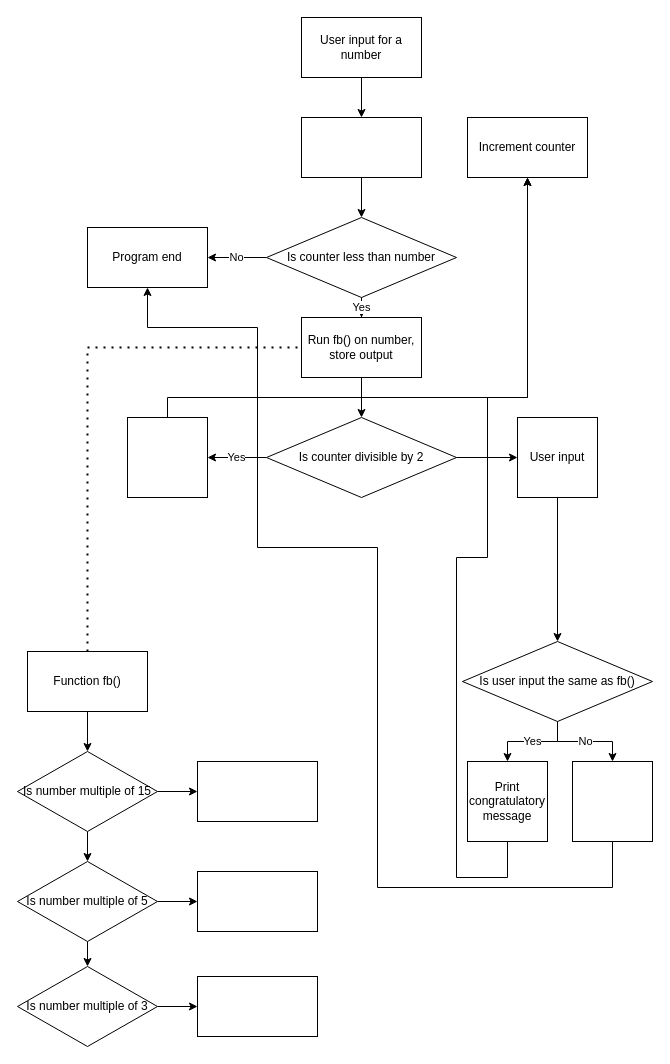
The diagram is 670 pixels wide and 1064 high, and some of its shapes have lost their labels. The shapes that lost their labels are listed below. From the top down, each one's centre as x and y in pixels, then its label:
At (x=361, y=147): "Start a counter at 1".
At (x=167, y=457): "Print output of fb()".
At (x=257, y=791): "Return fizzbuzz".
At (x=612, y=801): "Print rude message".
At (x=257, y=901): "Return buzz".
At (x=257, y=1006): "Return fizz".
